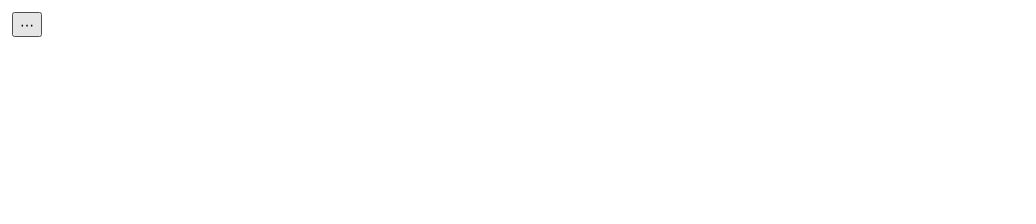
Test case: UtilitiesMenu › R3: is hidden until it is opened and is hidden again with Escape
Click the button named "Utilities": (27, 24) [12,12,42,37]
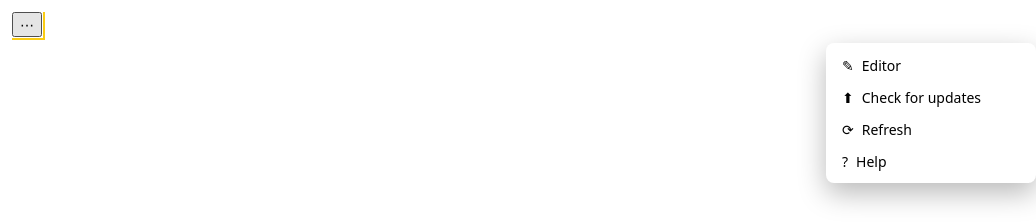
Expected: the menu named "Utilities" is shown, [826,43,1035,183]
Press Escape
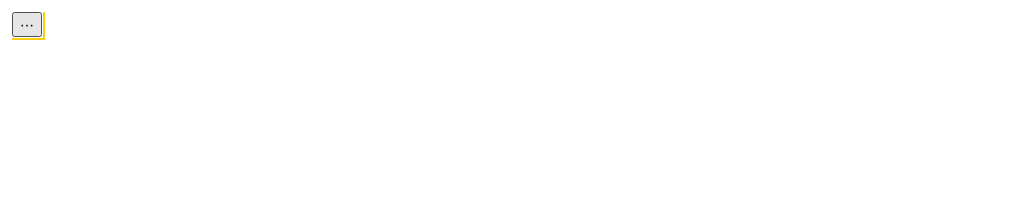
Expected: the menu is gone
